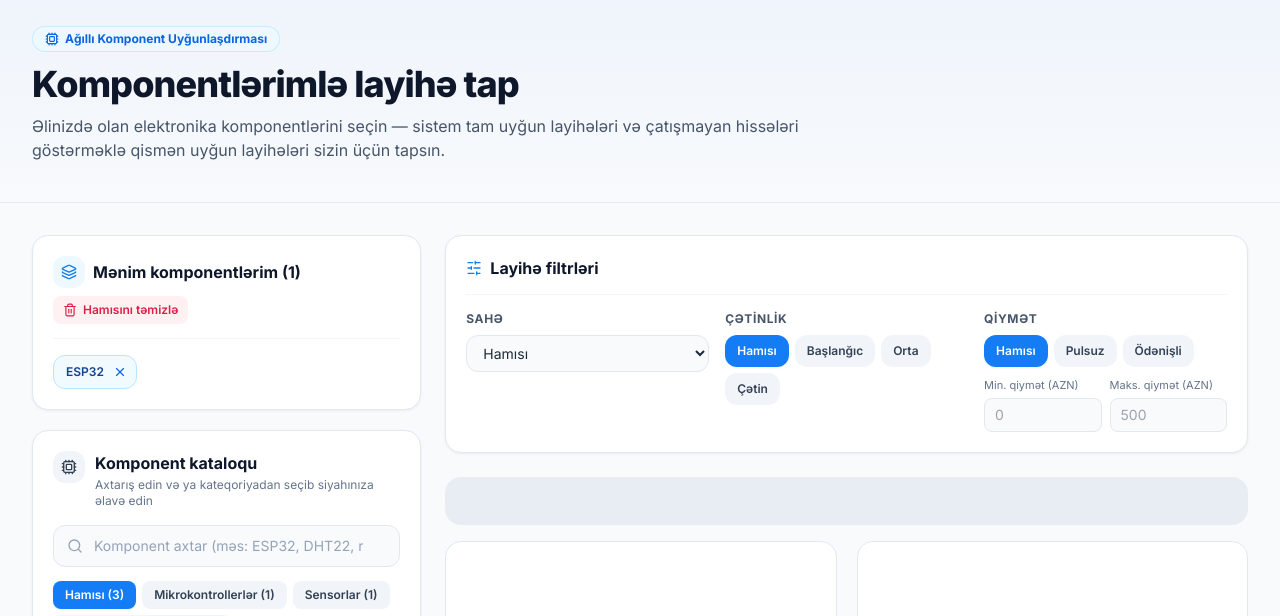
Test case: ComponentFinderPage › applies domain, price, and difficulty filters, validates inverted price range, and resets filters
Earlier steps of the test are not shown.
Select "Energetika" in the dropdown labelled "Sahə": (588, 354) [466,335,709,372]
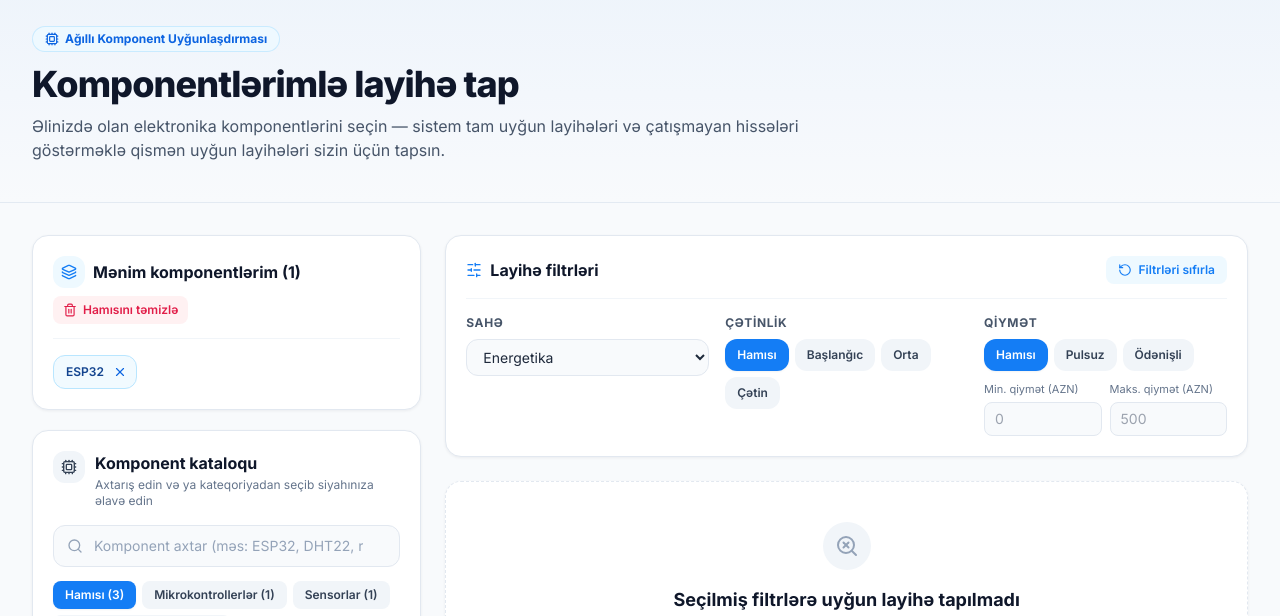
Expected: the heading "Seçilmiş filtrlərə uyğun layihə tapılmadı" is shown, [674,588,1020,610]
Click the button "Orta": (906, 355) [881,339,930,371]
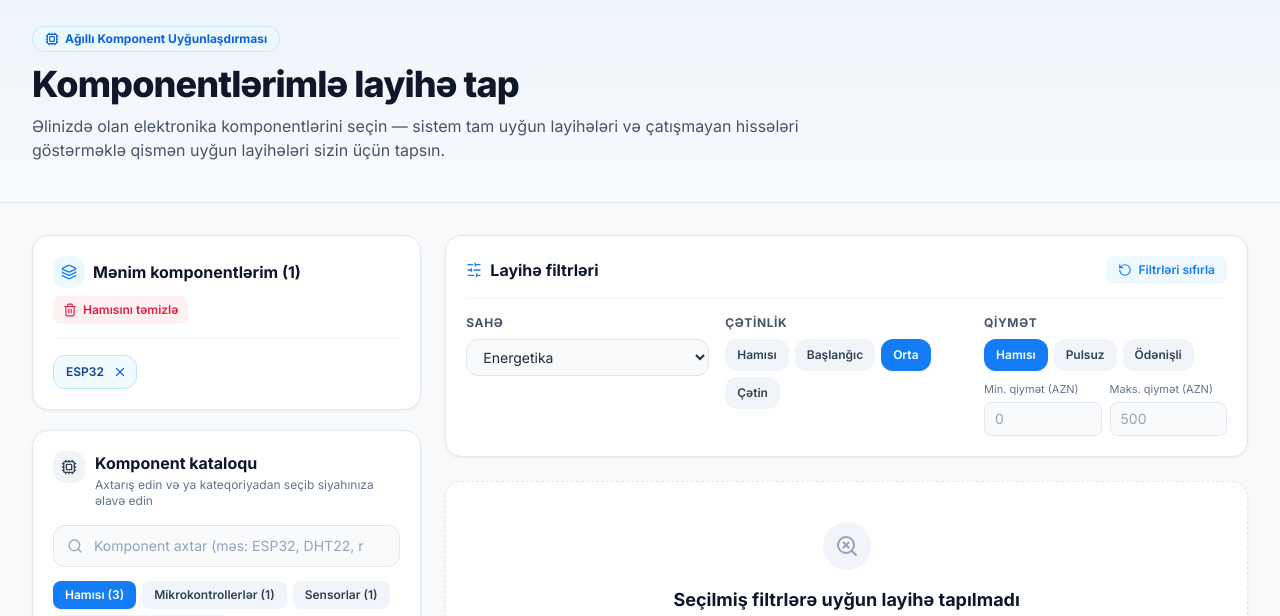
Click the button "Ödənişli": (1158, 355) [1123,339,1194,371]
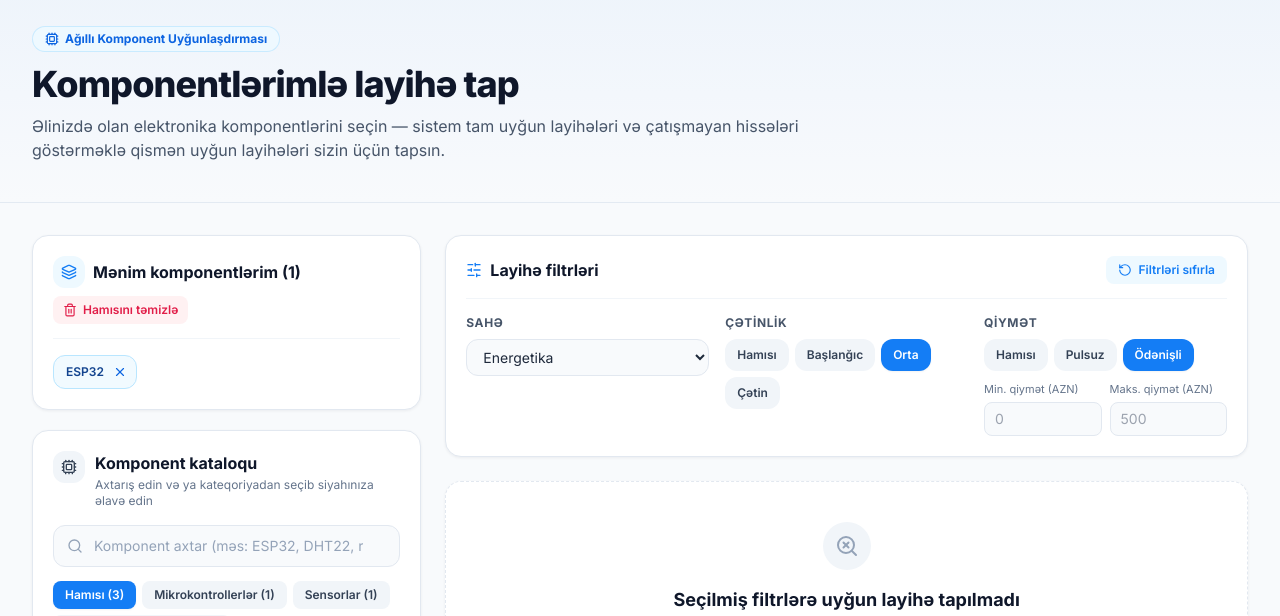
In the number field labelled "Min. qiymət (AZN)": (1043, 418) [984,402,1102,436], type "100"
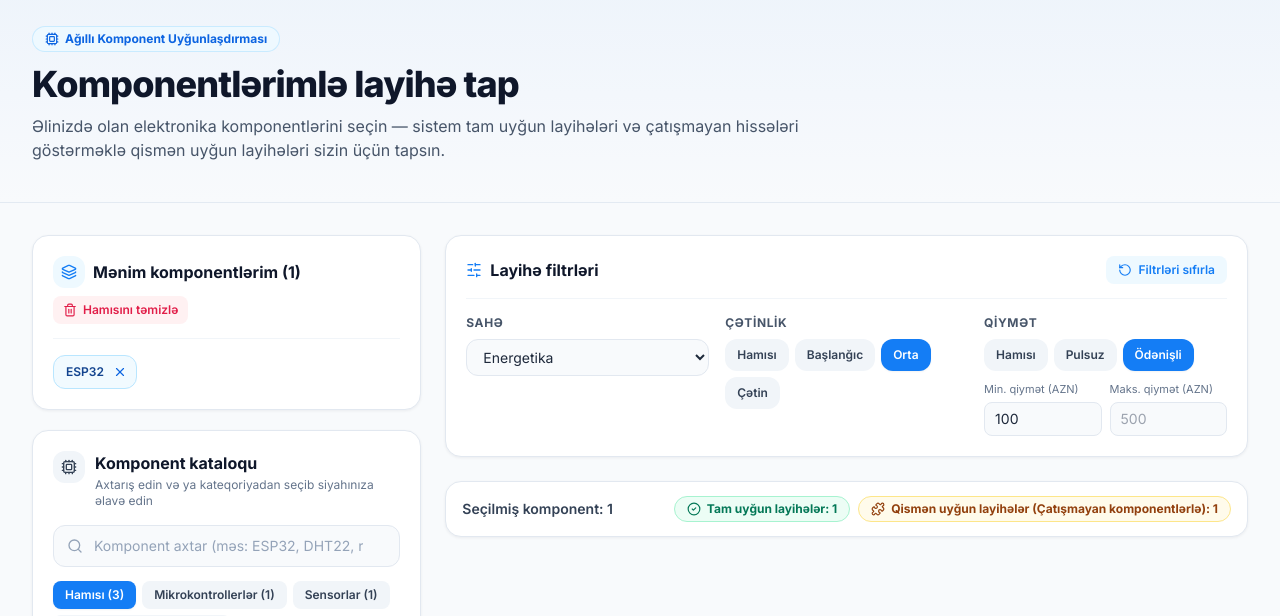
In the number field labelled "Maks. qiymət (AZN)": (1168, 418) [1110,402,1227,436], type "20"
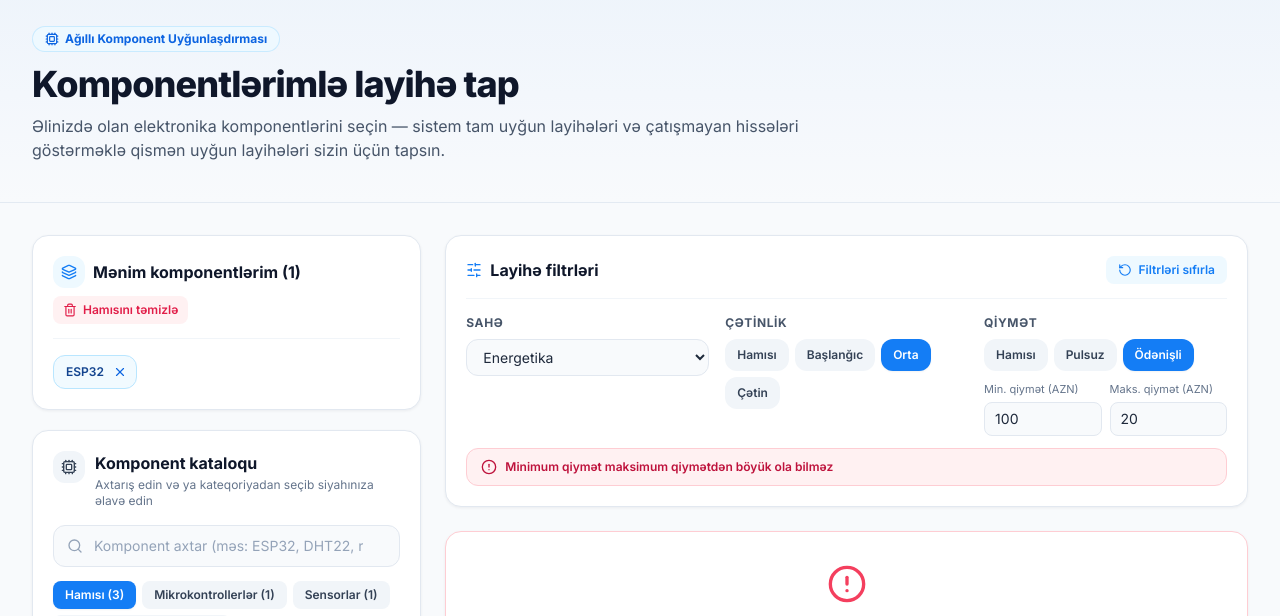
Click the button "Filtrləri sıfırla" in the row of "Layihə filtrləri": (1167, 270) [1106,256,1227,284]
(page scrolled)
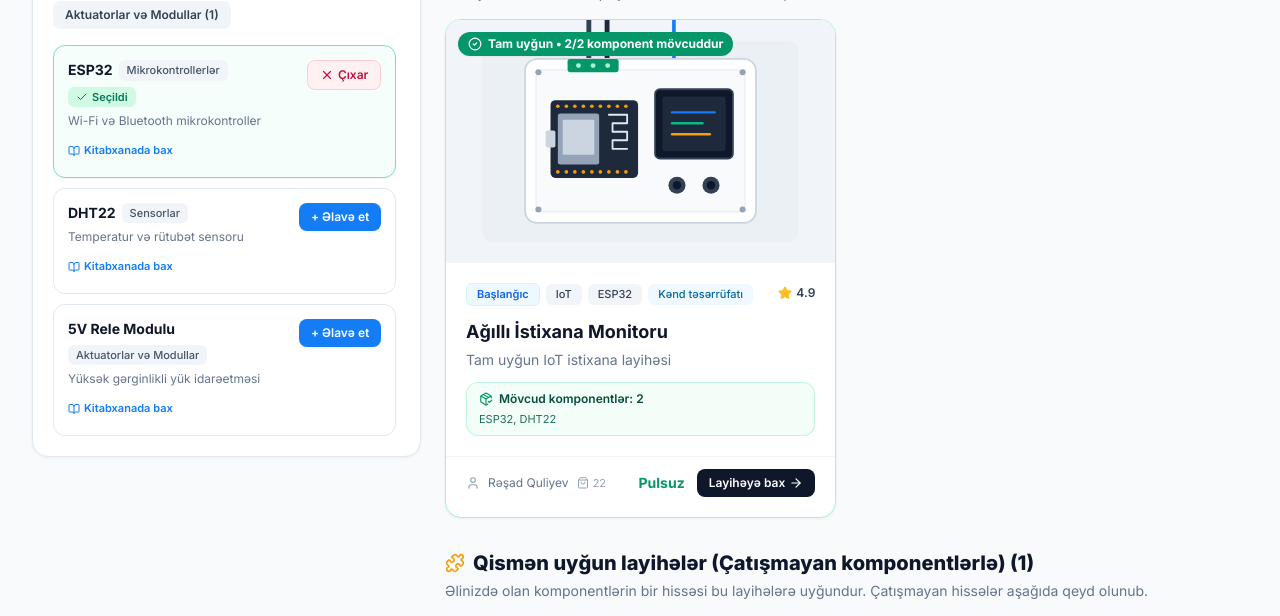
Expected: the heading "Ağıllı İstixana Monitoru" is shown, [466,320,668,341]
Expected: the button "Filtrləri sıfırla" is gone
